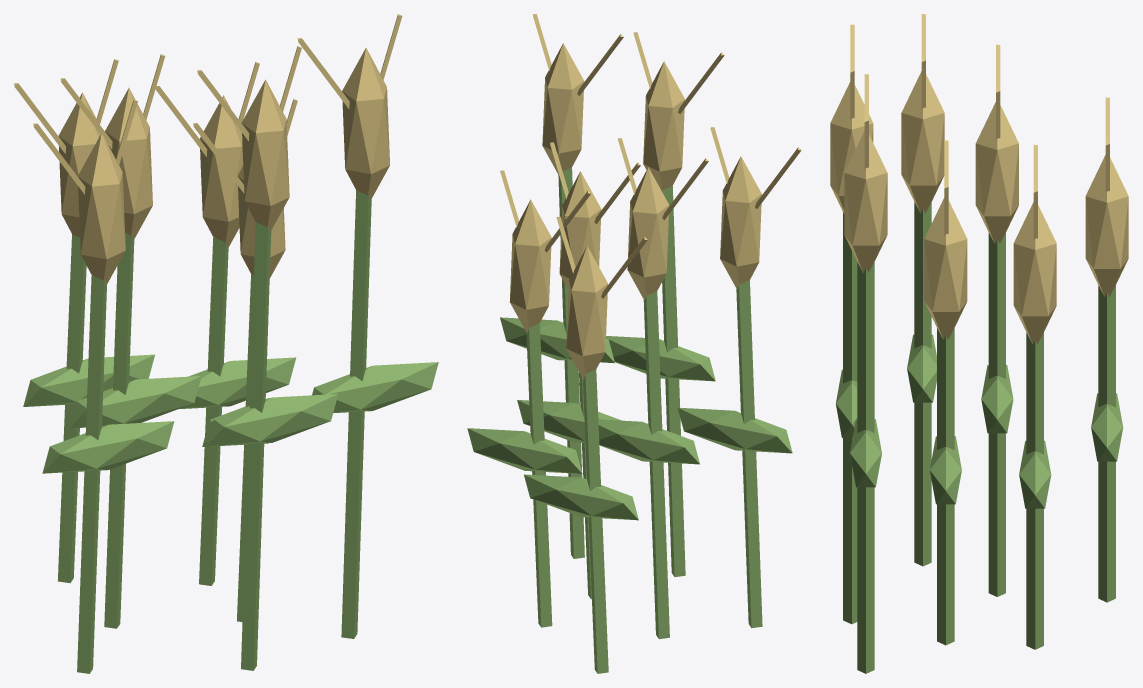
File: crop_barley_ripe.glb
3 renders of one model, left to right at view 1: azimuth 30°, elevation 25°; view 2: azimuth 150°, elevation 25°; view 3: azimuth 270°, elevation 25°, orthographic. The views are drawn at different scales.
Parts seen in each view (by area): view 1: crop_barley_ripe; view 2: crop_barley_ripe; view 3: crop_barley_ripe.
Boxes of the visible parts, box(x1,y1,x2,y2) form: crop_barley_ripe: box(14, 14, 438, 673); crop_barley_ripe: box(467, 14, 801, 673); crop_barley_ripe: box(830, 14, 1128, 673).
Bounding box in the file's own units: 0.5619 × 0.8724 × 0.4112.
